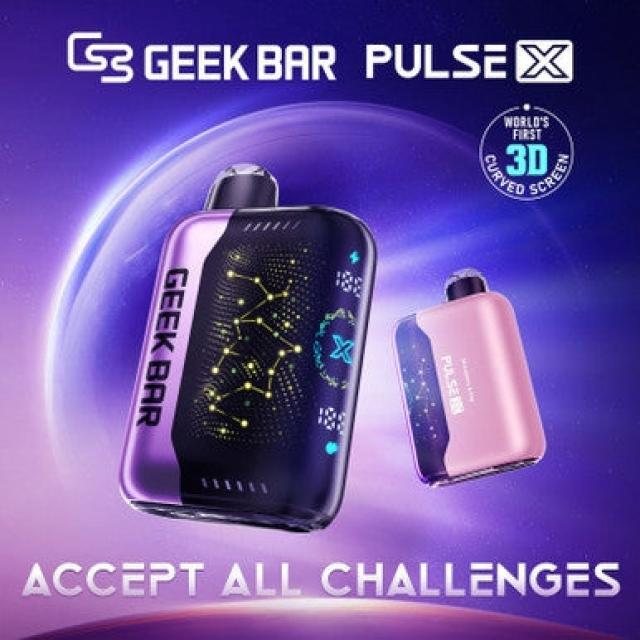Vapes: (116, 161, 378, 532)
